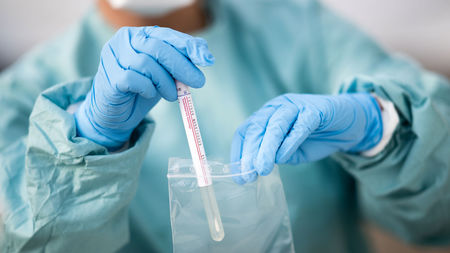Gloves: (69, 22, 215, 148), (229, 86, 385, 186)
